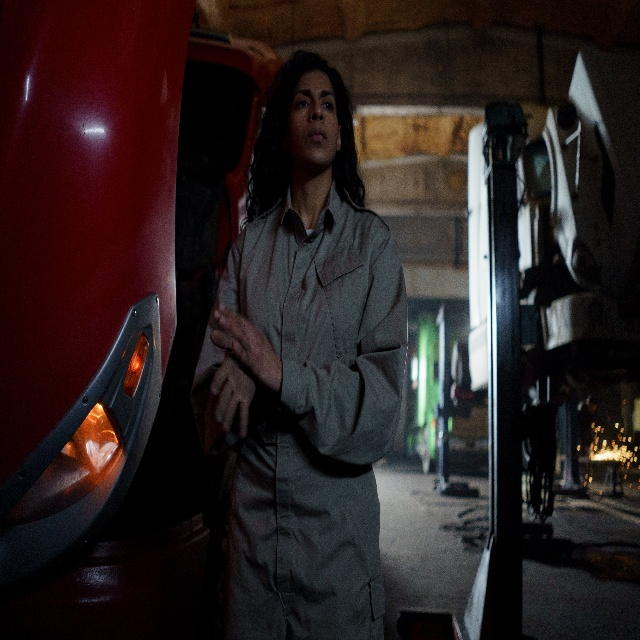Sin_guantes: (213, 302, 282, 391), (209, 329, 257, 440)
